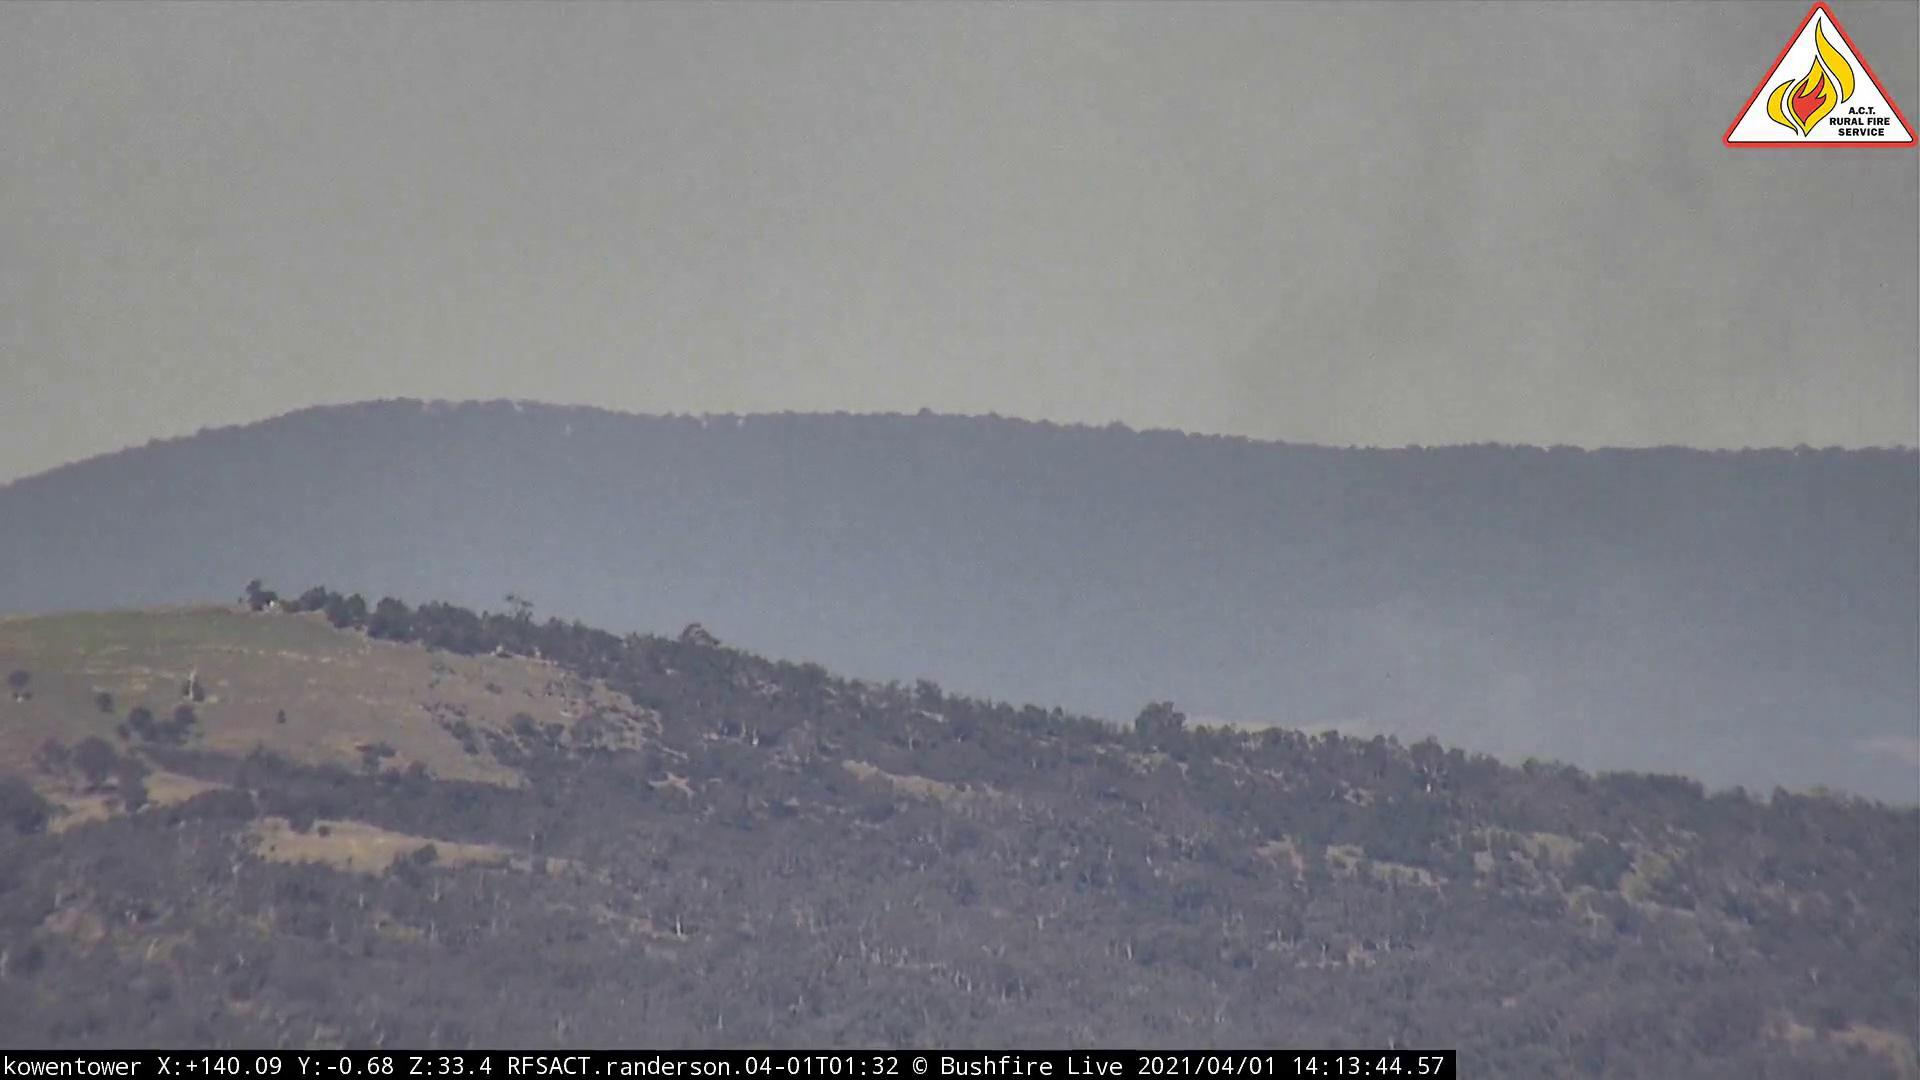Smoke: (1208, 196, 1920, 855)
